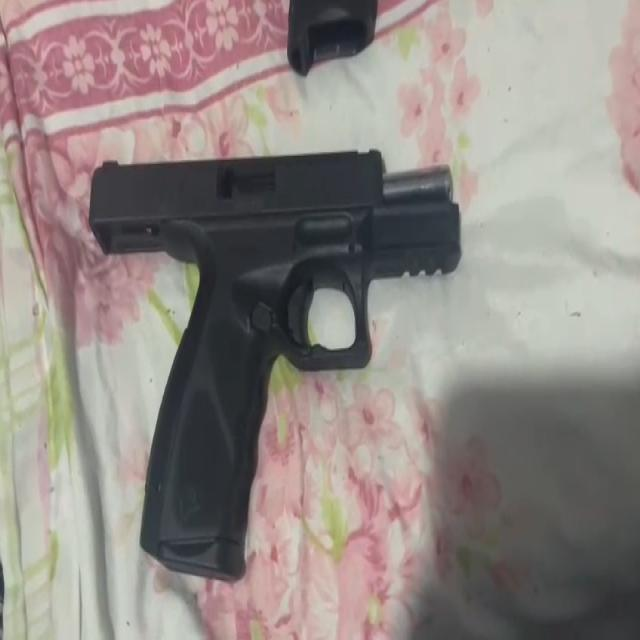gun: (88, 145, 464, 583)
